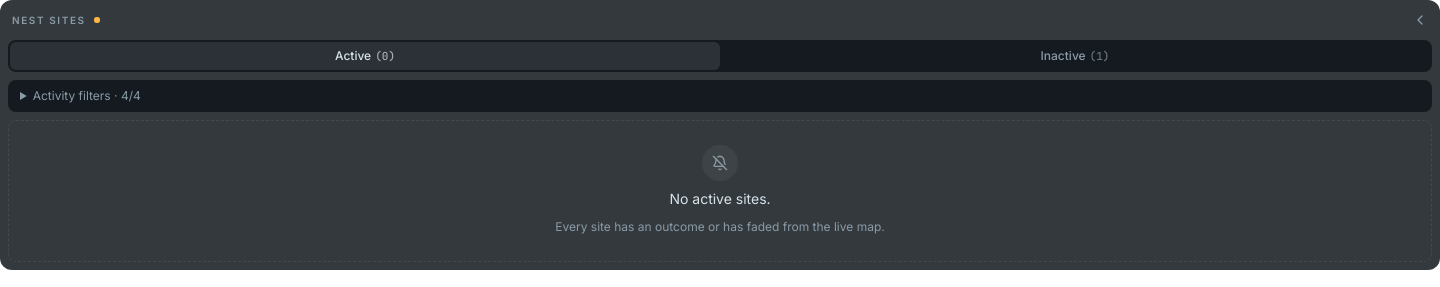
Test: AlertsFeed camera-level danger › lists a resolved one in Inactive by camera
Click the radio button labelled "Inactive (1)" at x=1075, y=56, box [720,42,1430,70]
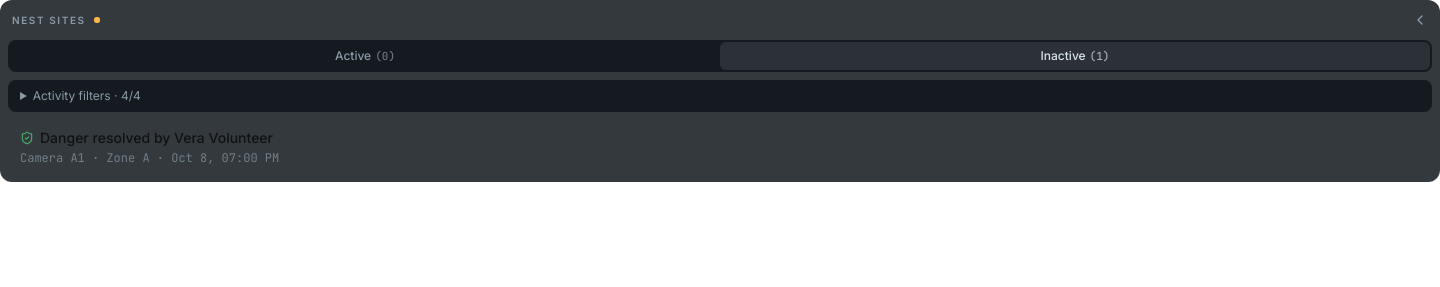
Result: the button "Danger resolved by Vera Volunteer" shows "Camera A1 · Zone A" at [8,120,1432,174]
